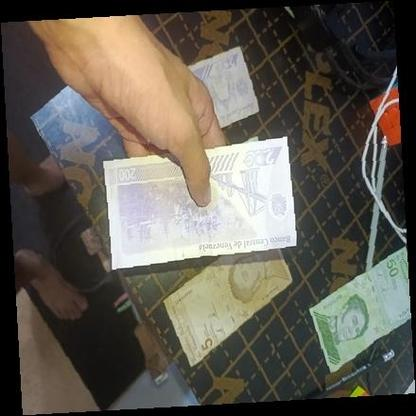two_hundred-back-vef: (101, 135, 297, 271)
